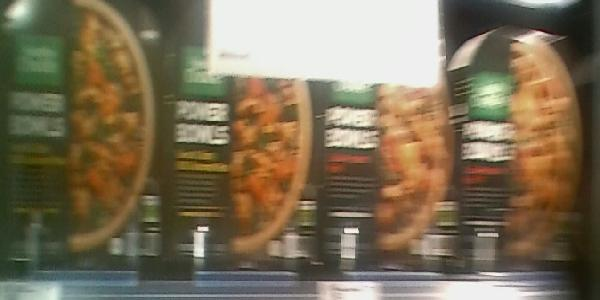pizza1: (1, 1, 162, 273), (162, 38, 323, 273), (323, 41, 461, 280), (462, 28, 583, 272)
